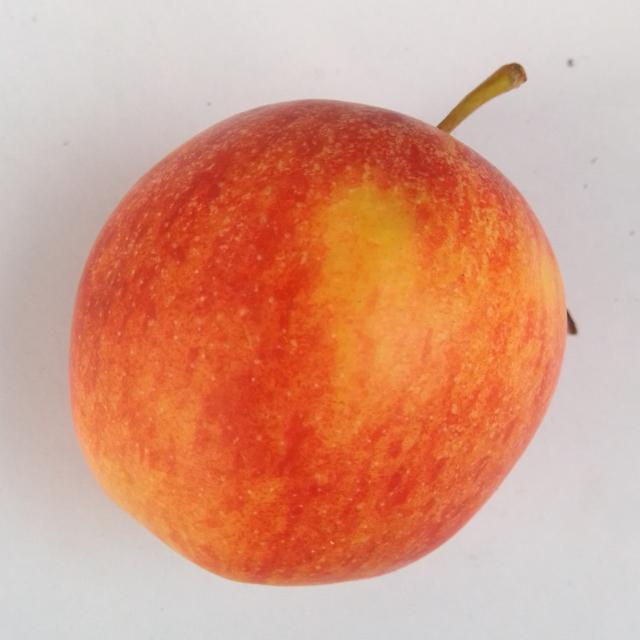Fresh Apple: (77, 98, 565, 595)
